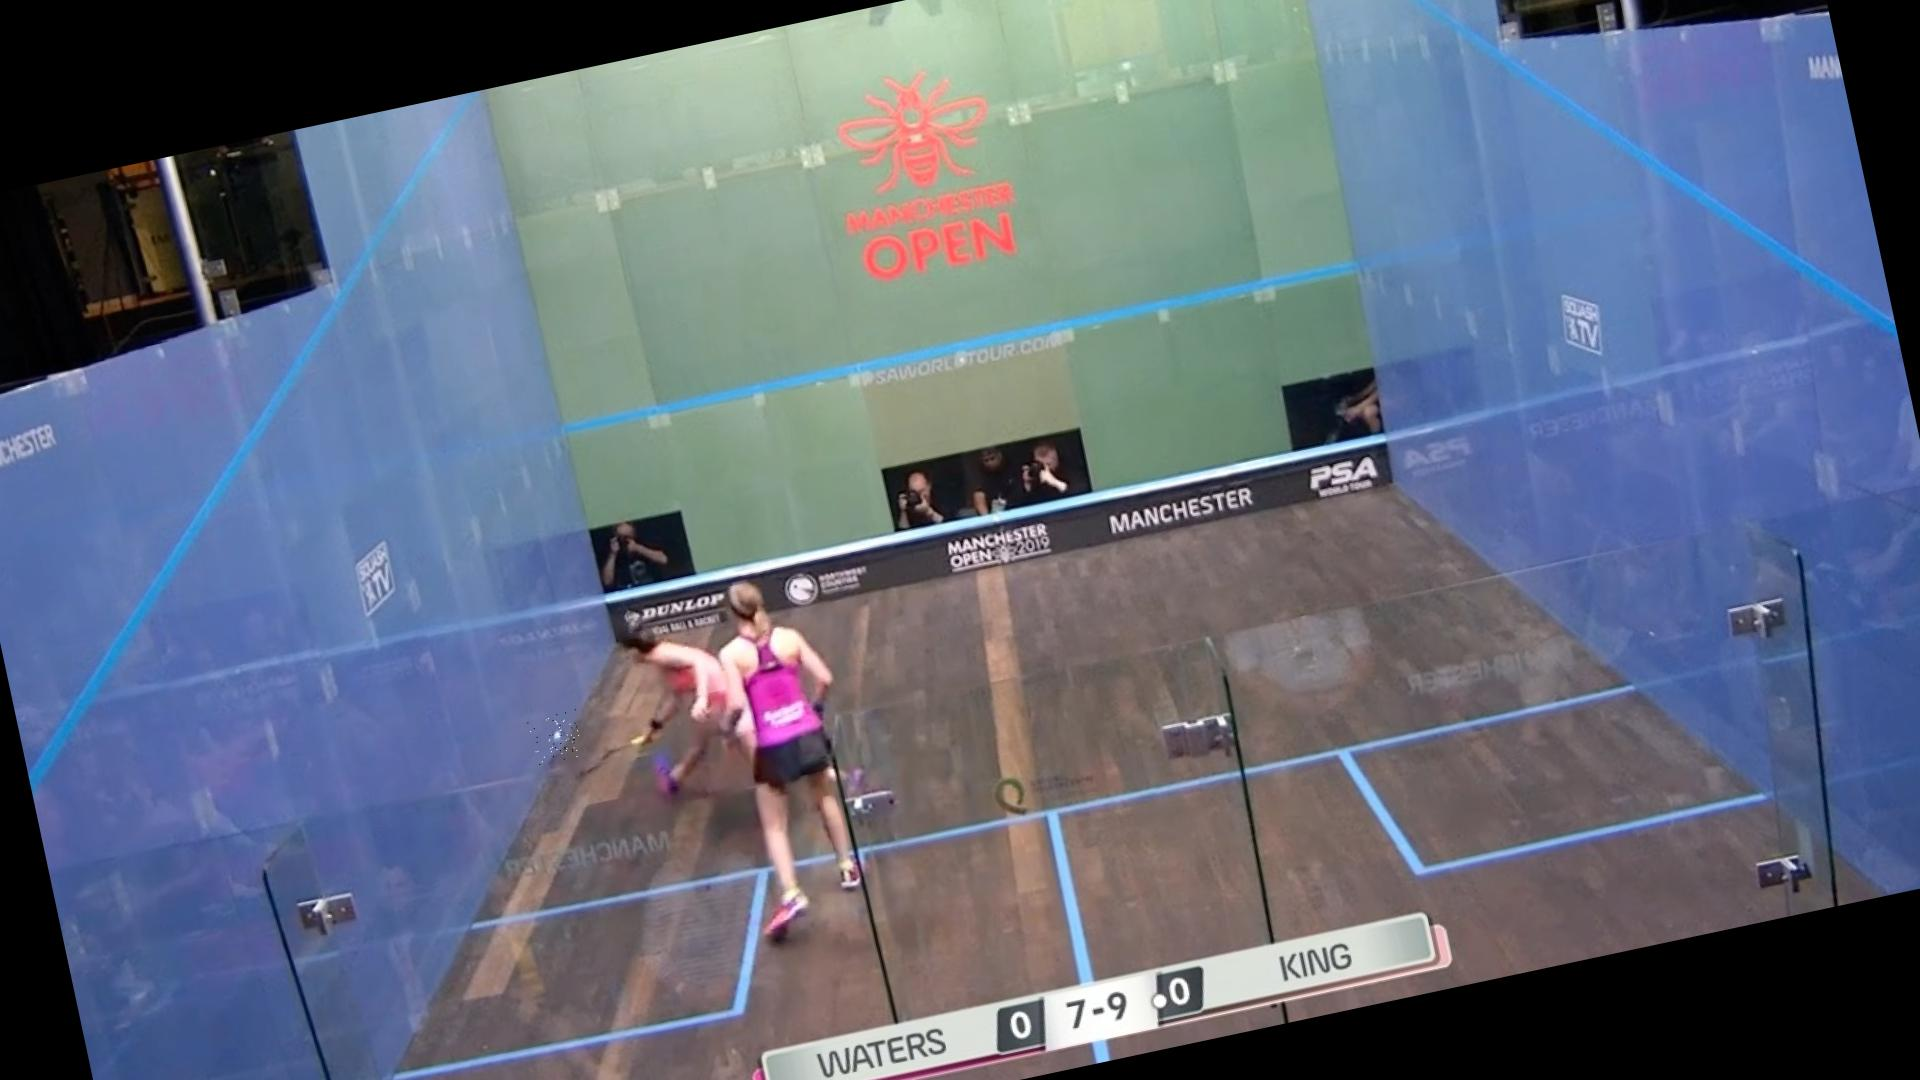Squash-Ball: (527, 709, 585, 765)
